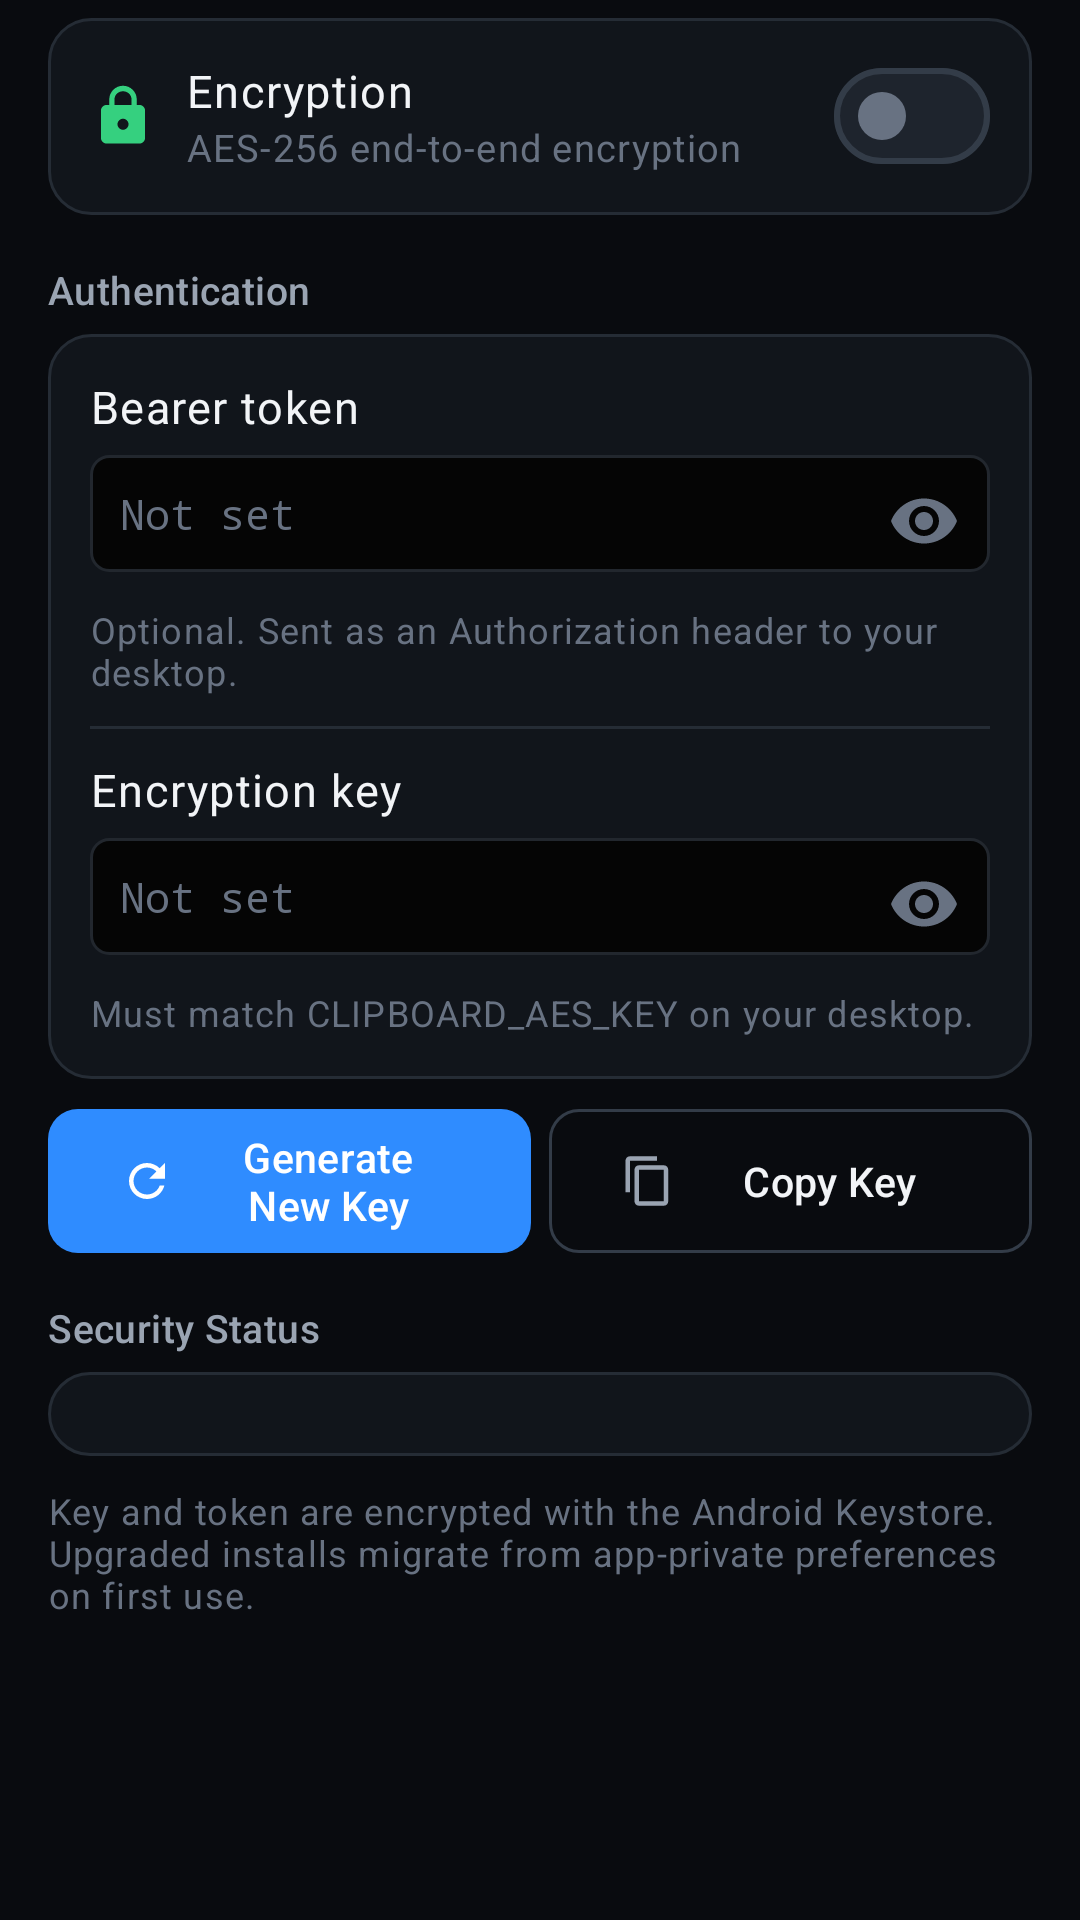

Where icons sit on this 1080×1920 app screen, as (x1, y1, x2, y2):
eq lock: (101, 85, 145, 144)
Show: (891, 498, 957, 544), (891, 881, 957, 927)
